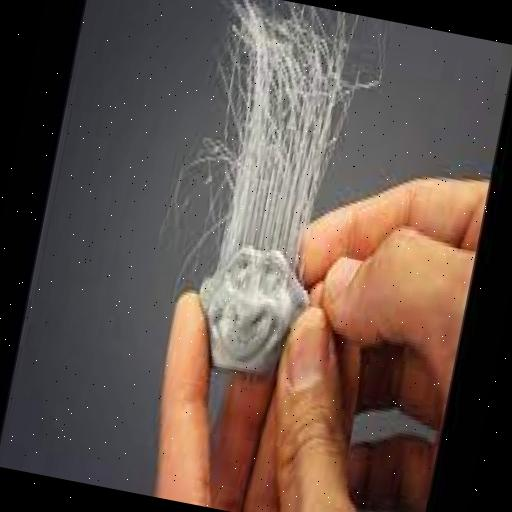spaghetti: (214, 18, 366, 268)
